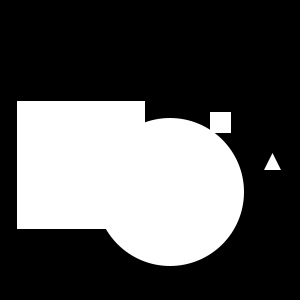circle: (17, 101, 145, 229), (210, 112, 231, 133)
rectangle: (96, 118, 244, 266)
triangle: (264, 153, 281, 170)
